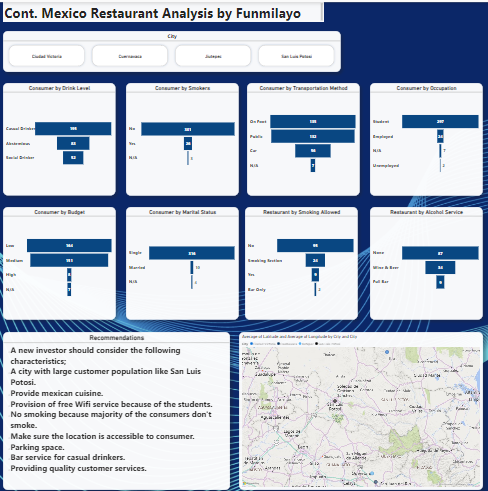

The dashboard page shown, as its layout file describes it:
{"tool":"powerbi","page":{"name":"Invest","canvas":[2000,2000],"ordinal":1},"visuals":[{"type":"advancedSlicerVisual","fields":{"Values":["restaurants.City"]},"box":[31.9,114.9,1351.1,163.8],"z":0},{"type":"funnel","title":"Consumer by Drink Level","fields":{"Y":["CountNonNull(consumer_preferences.Consumer_ID)"],"Category":["consumers.Drink_Level"]},"box":[31.9,323.4,450,450],"z":1000},{"type":"funnel","title":"Consumer by Smokers","fields":{"Y":["CountNonNull(consumer_preferences.Consumer_ID)"],"Category":["consumers.Smoker"]},"box":[525.5,323.4,451.1,451.1],"z":2000},{"type":"funnel","title":"Consumer by Marital Status","fields":{"Y":["CountNonNull(consumer_preferences.Consumer_ID)"],"Category":["consumers.Marital_Status"]},"box":[525.5,821.3,451.1,451.1],"z":3000},{"type":"funnel","title":"Consumer by Transportation Method","fields":{"Y":["CountNonNull(consumer_preferences.Consumer_ID)"],"Category":["consumers.Transportation_Method"]},"box":[1008.5,323.4,451.1,451.1],"z":4000},{"type":"funnel","title":"Consumer by Occupation","fields":{"Y":["CountNonNull(consumer_preferences.Consumer_ID)"],"Category":["consumers.Occupation"]},"box":[1500,323.4,451.1,451.1],"z":5000},{"type":"funnel","title":"Consumer by Budget","fields":{"Y":["CountNonNull(consumer_preferences.Consumer_ID)"],"Category":["consumers.Budget"]},"box":[31.9,821.3,451.1,451.1],"z":6000},{"type":"funnel","title":"Restaurant by Alcohol Service","fields":{"Y":["CountNonNull(restaurants.Restaurant_ID)"],"Category":["restaurants.Alcohol_Service"]},"box":[1500,821.3,451.1,451.1],"z":7000},{"type":"funnel","title":"Restaurant by Smoking Allowed","fields":{"Y":["CountNonNull(restaurants.Restaurant_ID)"],"Category":["restaurants.Smoking_Allowed"]},"box":[1000,821.3,451.1,451.1],"z":8000},{"type":"map","fields":{"Y":["Avg(restaurants.Latitude)"],"X":["Avg(restaurants.Longitude)"],"Category":["consumers.City"],"Series":["consumers.City"]},"box":[976,1320,976,632],"z":9000},{"type":"textbox","box":[32,0,1284,80],"z":10000},{"type":"textbox","title":"Recommendations","box":[32,1320,908,632],"z":11000}]}

Visuals, with their boxes in screenshot pixels (x1, y1, x2, y2), scaled from the page's 2000x2000 canvas onto the 488x491 screenshot:
advancedSlicerVisual - restaurants.City: bbox=(8, 28, 337, 68)
"Consumer by Drink Level" funnel: bbox=(8, 79, 118, 190)
"Consumer by Smokers" funnel: bbox=(128, 79, 238, 190)
"Consumer by Marital Status" funnel: bbox=(128, 202, 238, 312)
"Consumer by Transportation Method" funnel: bbox=(246, 79, 356, 190)
"Consumer by Occupation" funnel: bbox=(366, 79, 476, 190)
"Consumer by Budget" funnel: bbox=(8, 202, 118, 312)
"Restaurant by Alcohol Service" funnel: bbox=(366, 202, 476, 312)
"Restaurant by Smoking Allowed" funnel: bbox=(244, 202, 354, 312)
map - Avg(restaurants.Latitude) x Avg(restaurants.Longitude): bbox=(238, 324, 476, 479)
textbox: bbox=(8, 0, 321, 20)
"Recommendations" textbox: bbox=(8, 324, 229, 479)
